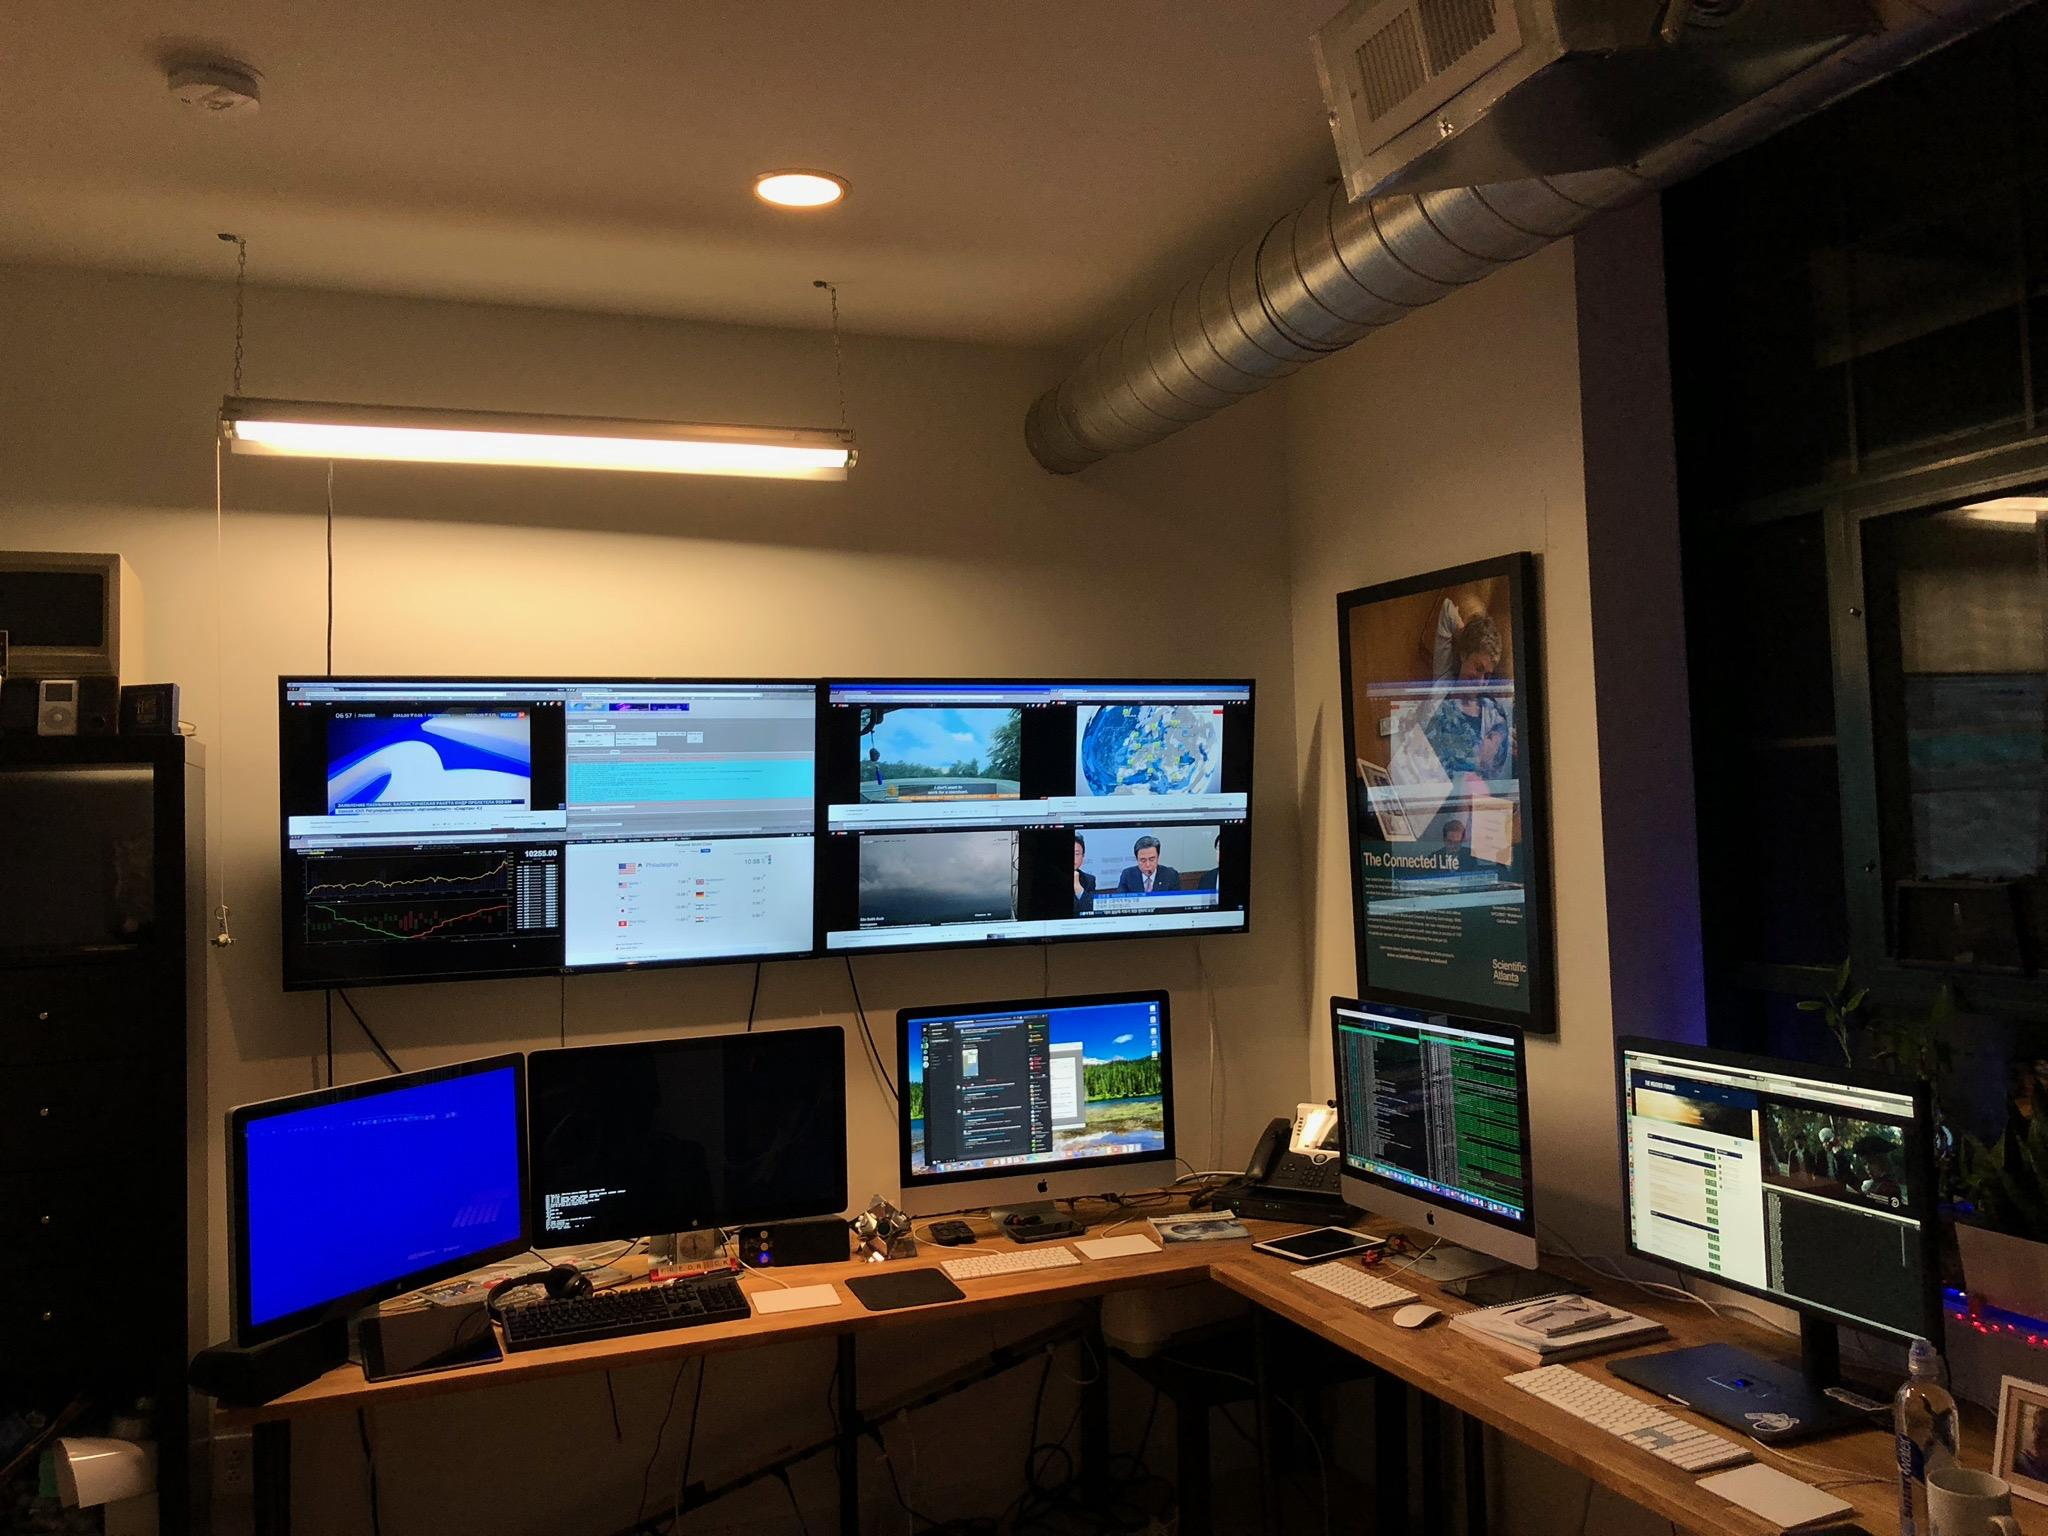Desk (Generic): (206, 1199, 2048, 1536)
Keyboard (Generic): (1501, 1362, 1753, 1471), (497, 1273, 751, 1355), (1288, 1258, 1421, 1313), (939, 1242, 1084, 1284)
Laptop (OSX): (1600, 1333, 1892, 1457)
Monitor (Landscape): (274, 679, 822, 999), (826, 678, 1256, 950), (1609, 1041, 1951, 1346), (227, 1054, 531, 1346), (527, 1025, 847, 1273)
Monitor (iMac): (897, 991, 1180, 1241), (1324, 1007, 1538, 1291)
Mouse (Generic): (1393, 1302, 1442, 1333)
Mouse (Magic Trackpad): (1692, 1460, 1863, 1536), (751, 1283, 842, 1317), (1072, 1231, 1164, 1262)
Mousepad (Generic): (845, 1267, 964, 1312)
Mug: (1929, 1463, 2022, 1536)
Tablet (Generic): (348, 1307, 505, 1384)
Tablet (iPad): (1251, 1221, 1395, 1267)
Telephone: (1237, 1079, 1367, 1220)
Water Bottle: (1892, 1339, 1959, 1536)
